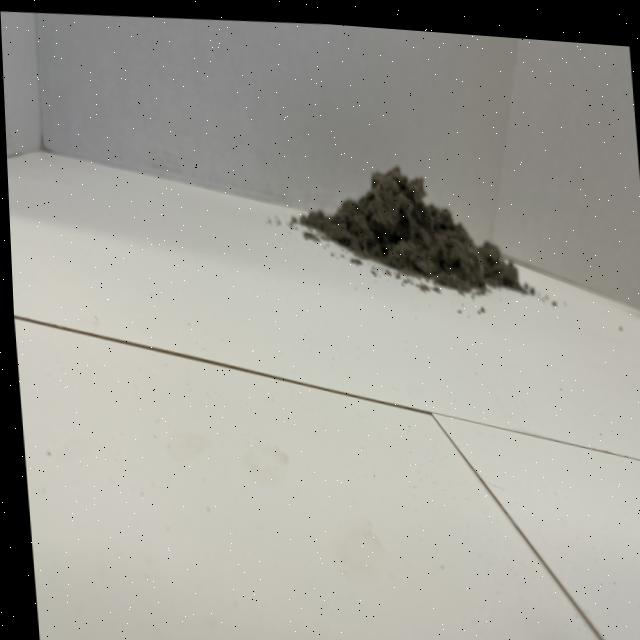sand: (310, 146, 520, 304)
